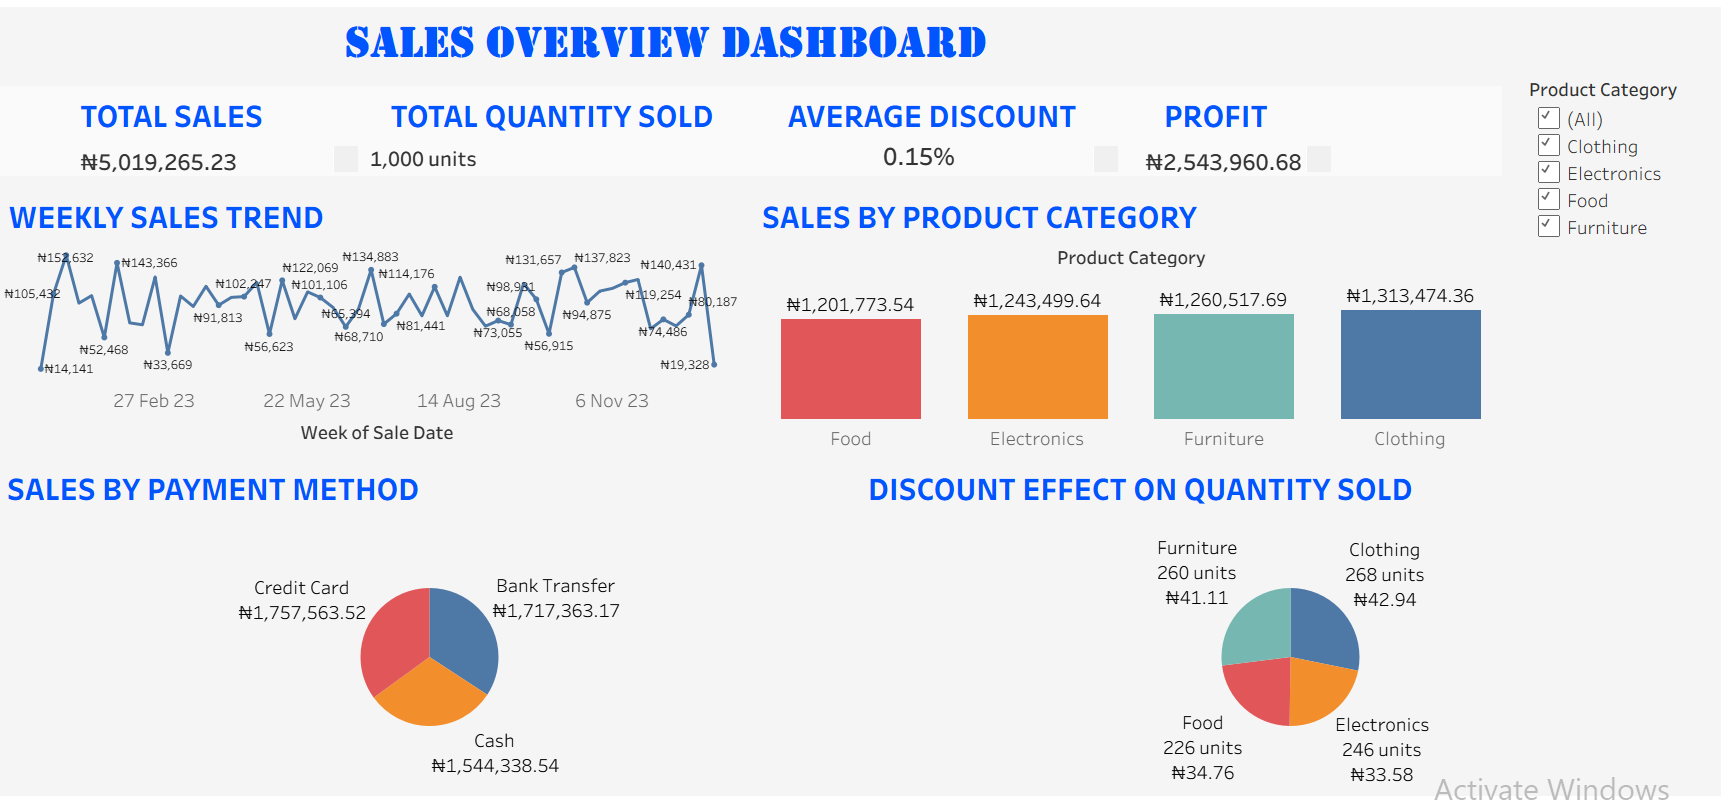

Layout of this report page (visuals, bound fields, positions):
{"tool":"tableau","page":{"name":"Dashboard 1","canvas":[1000,1000],"units":"permille","ordinal":0},"visuals":[{"type":"text","box":[123.2,3.7,537.3,103.9]},{"type":"filter","title":"SALES BY PRODUCT CATEGORY","param":"[federated.0qipprd1s8k0hx1bnbw140c2nlob].[none:Product_Category:nk]","box":[883.4,90.5,96.2,220.1]},{"type":"worksheet","title":"TOTAL SALES","mark":"Automatic","box":[0,107.6,217.6,112.5]},{"type":"worksheet","title":"TOTAL QUANTITY SOLD","mark":"Automatic","box":[217.6,107.6,217.6,112.5]},{"type":"worksheet","title":"AVERAGE DISCOUNT","mark":"Automatic","box":[435.1,107.6,217.5,112.5]},{"type":"worksheet","title":"PROFIT","mark":"Automatic","box":[652.6,107.6,217.6,112.5]},{"type":"worksheet","title":"WEEKLY SALES TREND","mark":"Automatic","rows":["Sales_Amount"],"cols":["Sale_Date"],"box":[10.8,233.5,431.5,332.5]},{"type":"worksheet","title":"SALES BY PRODUCT CATEGORY","mark":"Automatic","rows":["Sales_Amount"],"cols":["Product_Category"],"box":[442.3,233.5,431.5,332.5]},{"type":"worksheet","title":"SALES BY PAYMENT METHOD","mark":"Pie","box":[10.2,570.9,492.8,423]},{"type":"worksheet","title":"DISCOUNT EFFECT ON QUANTITY SOLD","mark":"Pie","box":[503,570.9,492.2,423]}]}

Visuals, with their boxes on the dashboard's canvas, which has no fixed pixel size, in thousandths of its width and height (x1, y1, x2, y2). These are canvas units, not pixel positions in the 1725x800 screenshot, which may show the page scaled, cropped or inside an application window:
text: left=123, top=4, right=660, bottom=108
"SALES BY PRODUCT CATEGORY" filter: left=883, top=90, right=980, bottom=311
"TOTAL SALES" worksheet: left=0, top=108, right=218, bottom=220
"TOTAL QUANTITY SOLD" worksheet: left=218, top=108, right=435, bottom=220
"AVERAGE DISCOUNT" worksheet: left=435, top=108, right=653, bottom=220
"PROFIT" worksheet: left=653, top=108, right=870, bottom=220
"WEEKLY SALES TREND" worksheet: left=11, top=234, right=442, bottom=566
"SALES BY PRODUCT CATEGORY" worksheet: left=442, top=234, right=874, bottom=566
"SALES BY PAYMENT METHOD" worksheet (Pie marks): left=10, top=571, right=503, bottom=994
"DISCOUNT EFFECT ON QUANTITY SOLD" worksheet (Pie marks): left=503, top=571, right=995, bottom=994
